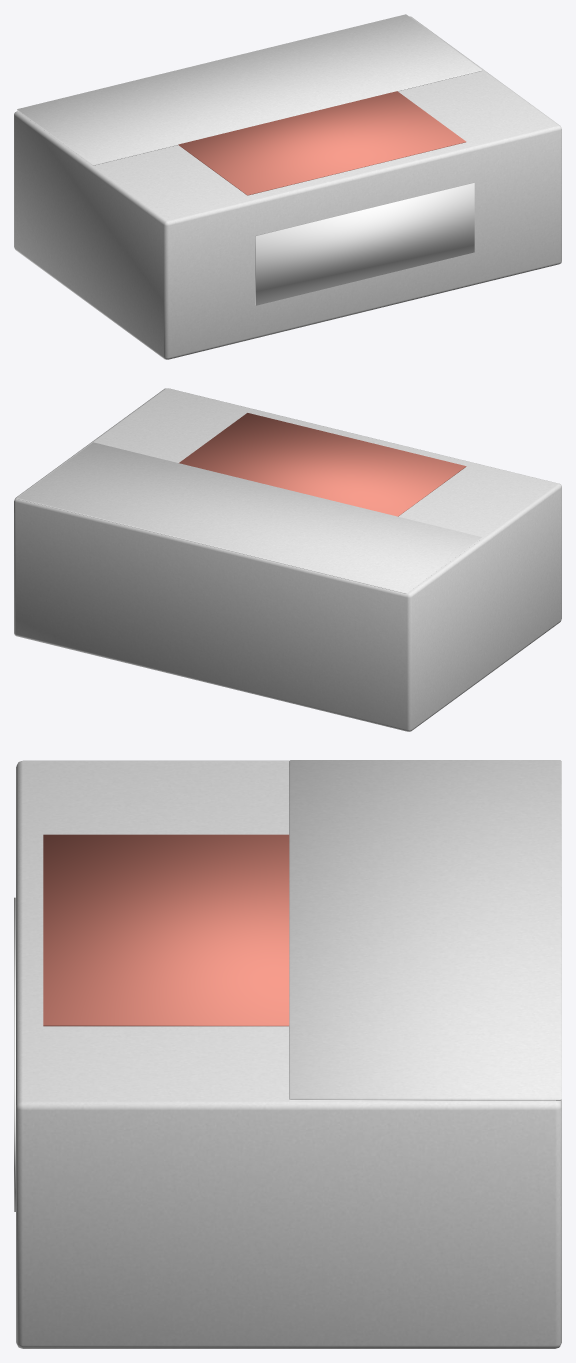
The model's file is snack_box.glb.
3 renders of one model, top to bottom at view 1: azimuth 30°, elevation 25°; view 2: azimuth 150°, elevation 25°; view 3: azimuth 270°, elevation 25°, orthographic. The views are drawn at different scales.
Visible parts, largest first — view 1: snack_carton, snack_flap, snack_label, snack_band; view 2: snack_carton, snack_flap, snack_band; view 3: snack_carton, snack_flap, snack_band.
Boxes of the visible parts, left/top/right/bottom form: snack_carton: left=14, top=16, right=561, bottom=359; snack_flap: left=17, top=14, right=482, bottom=165; snack_label: left=255, top=182, right=474, bottom=305; snack_band: left=178, top=91, right=466, bottom=195; snack_carton: left=14, top=388, right=561, bottom=731; snack_flap: left=17, top=442, right=482, bottom=593; snack_band: left=179, top=413, right=466, bottom=516; snack_carton: left=16, top=760, right=561, bottom=1348; snack_flap: left=289, top=760, right=561, bottom=1100; snack_band: left=43, top=834, right=289, bottom=1026.
Bounding box in the file's own units: 18 × 6.05 × 12.05.
3 materials, 1 textured.
